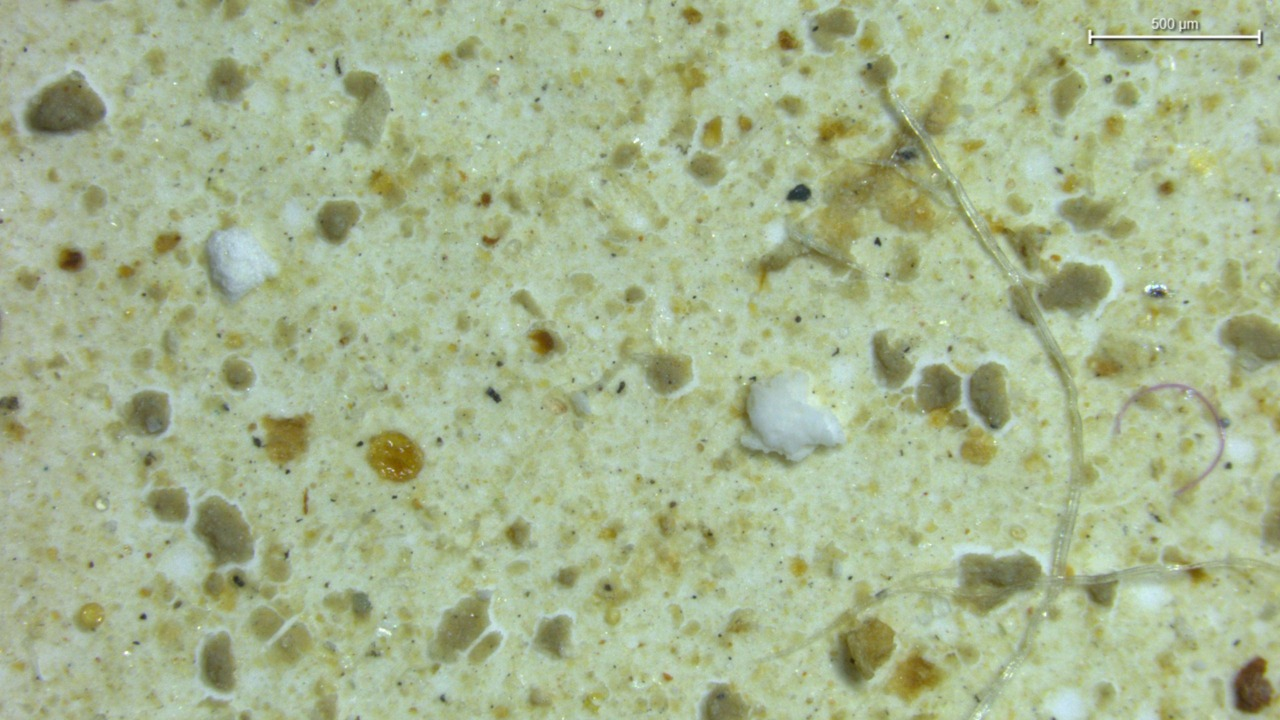microplastic_fragment: (741, 372, 844, 462), (206, 228, 277, 302), (842, 618, 895, 680)
